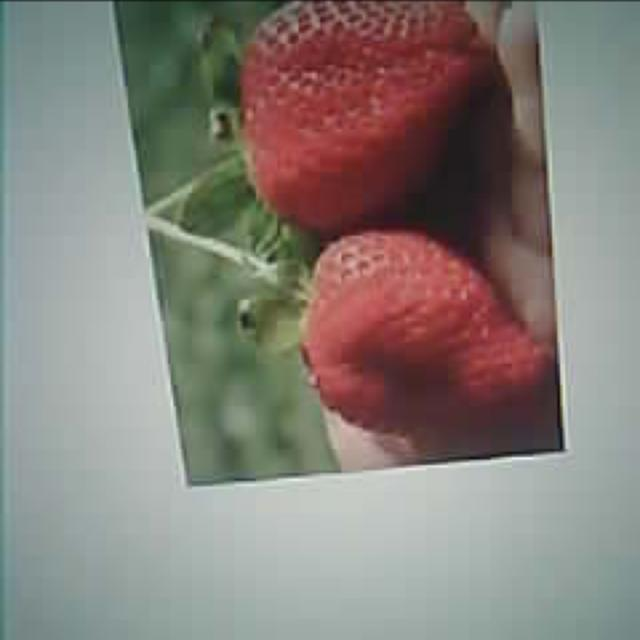ripe: (242, 0, 480, 224), (298, 229, 548, 433)
